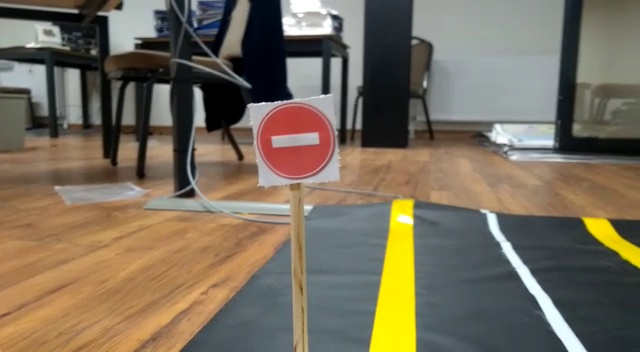girisi_olmayan_yol: (256, 100, 334, 182)
